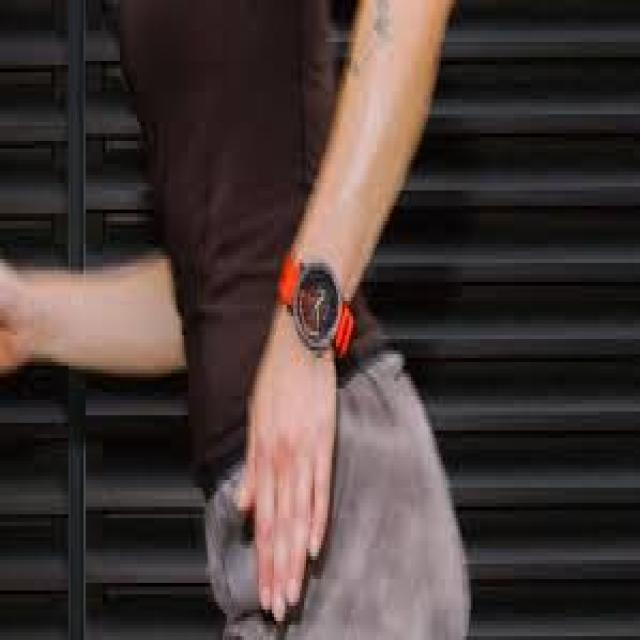objects: (274, 248, 359, 366)
